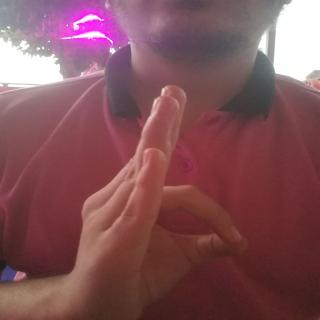Space: (79, 81, 251, 310)
